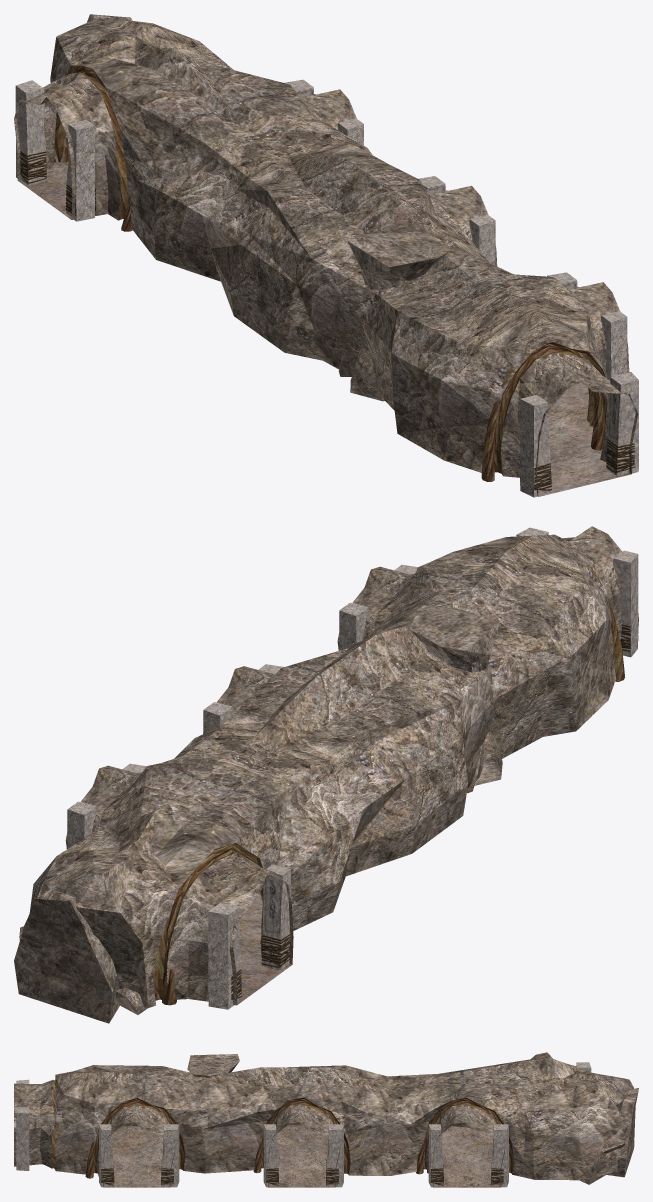
Rendered from thm_dath_mtn_clan_stronghold_r7_crafthall_mesh_r7.fbx.
3 views of the same model, one above another, from view 1: azimuth 30°, elevation 25°; view 2: azimuth 150°, elevation 25°; view 3: azimuth 270°, elevation 25° (orthographic). The views are drawn at different scales.
Parts seen in each view (by area): view 1: mesh_node; view 2: mesh_node; view 3: mesh_node.
Part boxes in pixels (left/top/right/bottom): mesh_node: left=14, top=14, right=638, bottom=497; mesh_node: left=14, top=526, right=638, bottom=1023; mesh_node: left=14, top=1052, right=638, bottom=1187.
Bounding box in the file's own units: 8 × 4.99 × 30.32.
